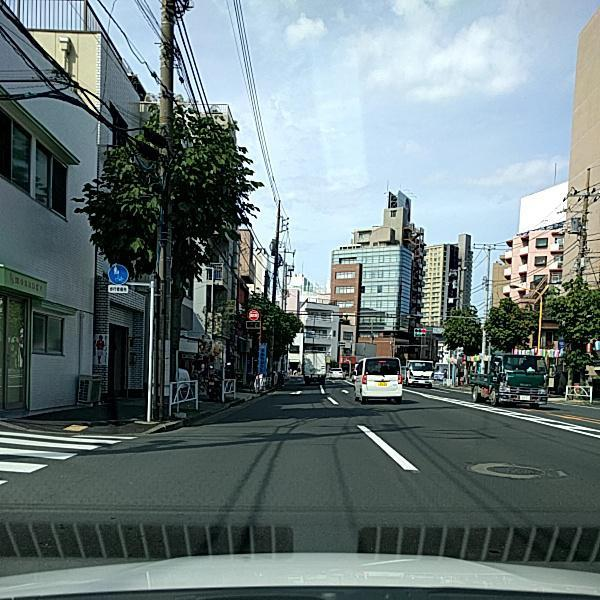D50: (482, 462, 554, 481)
